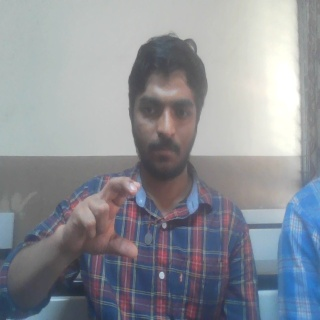Face: (126, 34, 210, 181)
No: (58, 175, 142, 262)
